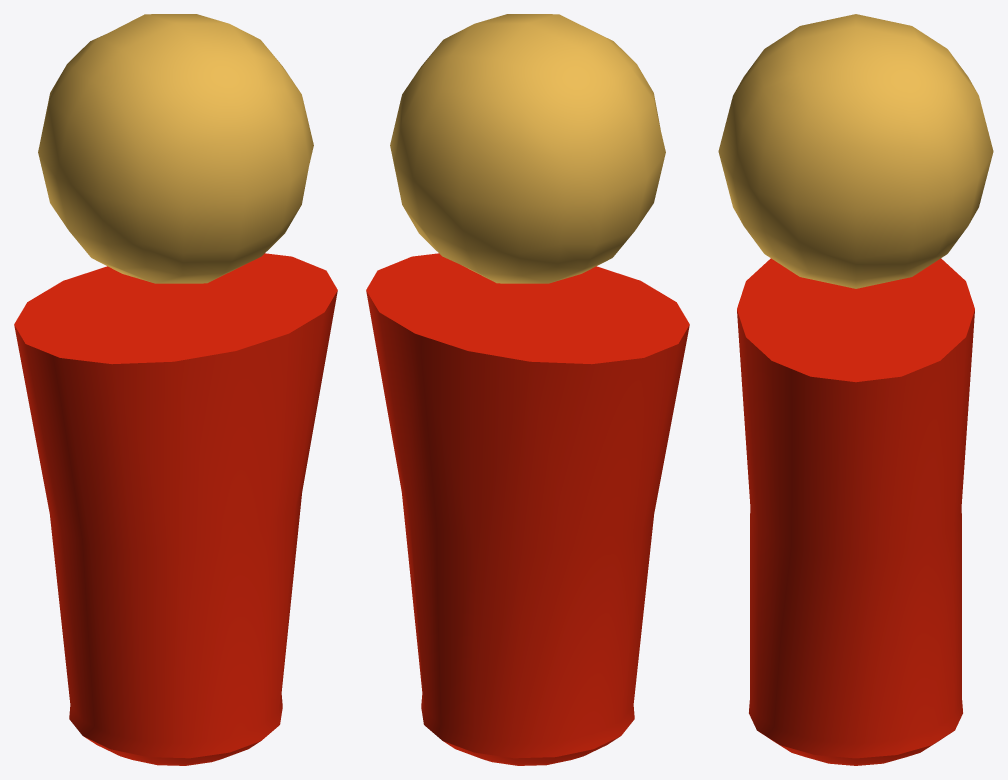
File: Personagem4.fbx
The picture shows the model from 3 angles, left to right: view 1: azimuth 30°, elevation 25°; view 2: azimuth 150°, elevation 25°; view 3: azimuth 270°, elevation 25°; orthographic projection.
Parts seen in each view (by area): view 1: Sphere.002; view 2: Sphere.002; view 3: Sphere.002.
Part boxes in pixels (x1,y1,x2,y2): Sphere.002: [14, 14, 337, 765]; Sphere.002: [366, 14, 689, 765]; Sphere.002: [718, 14, 993, 765].
Size of the model in its own units: 268 by 618 by 213.
